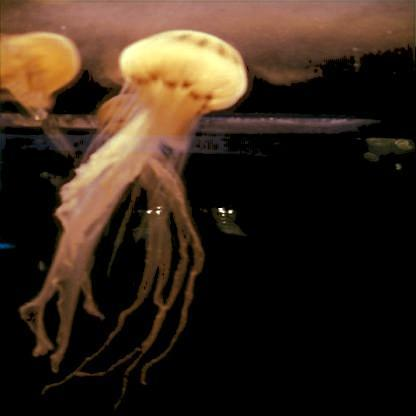Mosaic: (47, 27, 251, 385), (0, 34, 76, 139)
